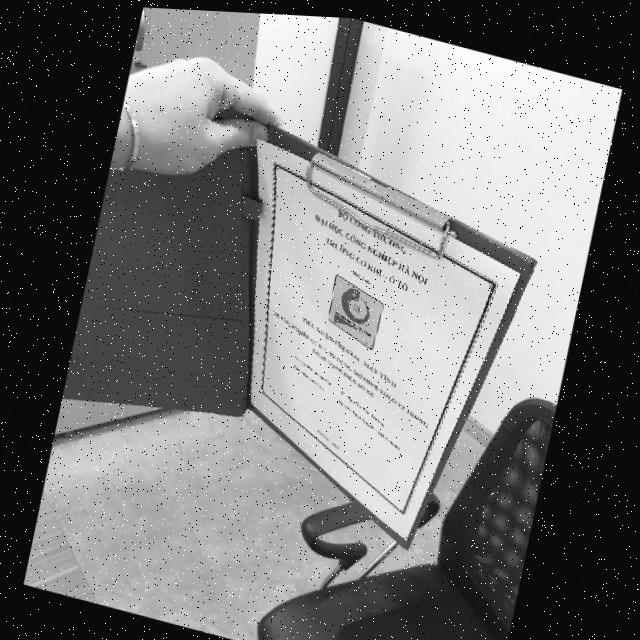document: (250, 137, 519, 541)
